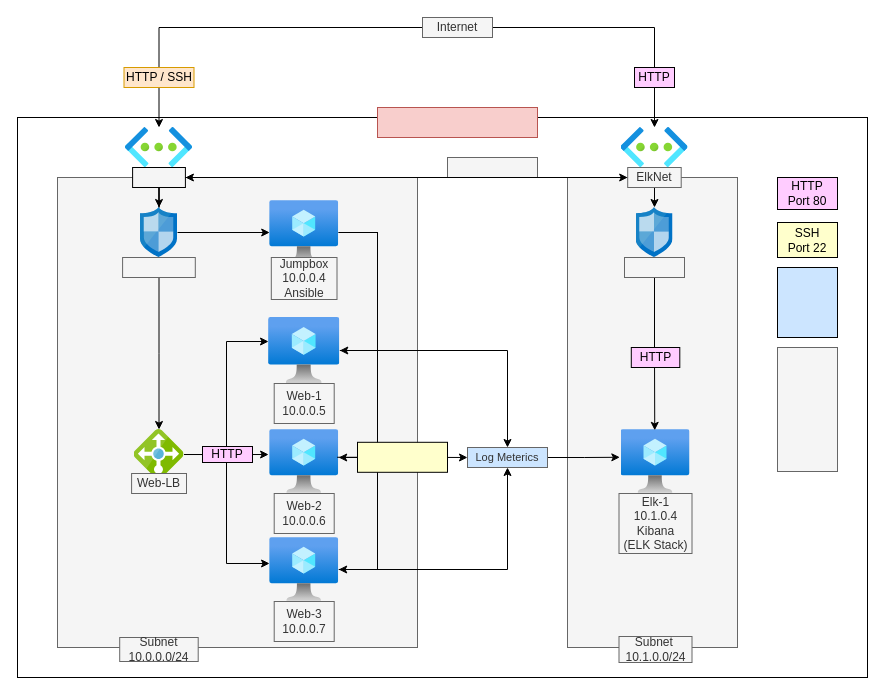
This 885x695 diagram has some shape labels left out. Here are the shapes that lost their labels. From the top down, the centre of each, then its label:
At (457,122): "RedTeam Resource Group".
At (158,177): "RedNet".
At (492,167): "Network Bridge".
At (158,267): "RedNet-SG".
At (654,267): "Elk-1-SG".
At (807,302): "Log Meterics Port 5601 Port 9200 Port 5044".
At (807,409): "Web Server Containers DVWA FIlebeat Metericbeat".
At (402,456): "SSH (From Jumpbox)".
